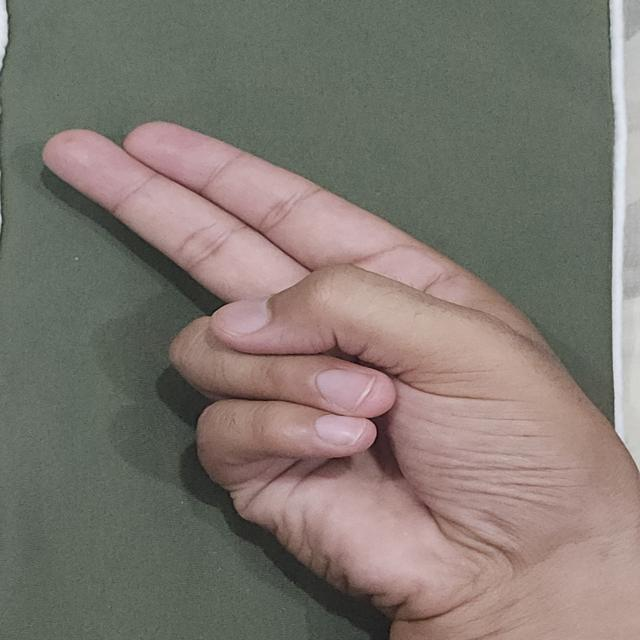ث: (16, 104, 640, 640)
